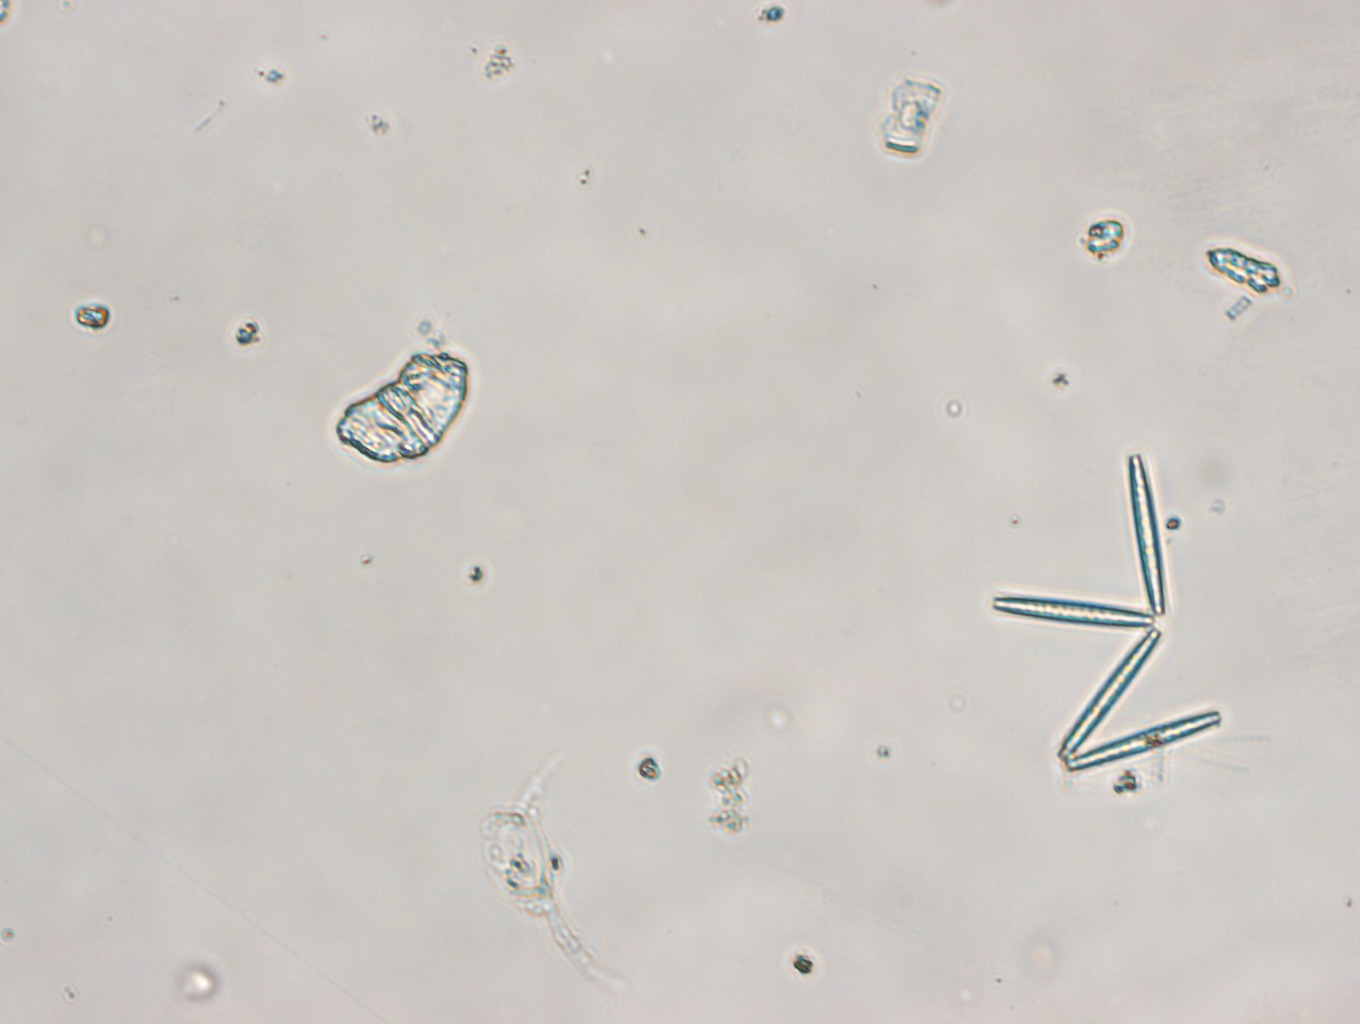thalassionema nitzschioides: (994, 454, 1225, 778)
